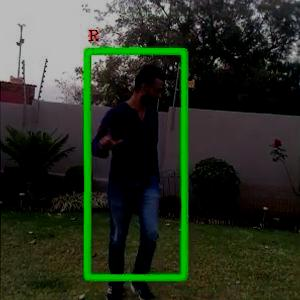land_hand: (97, 123, 126, 154)
